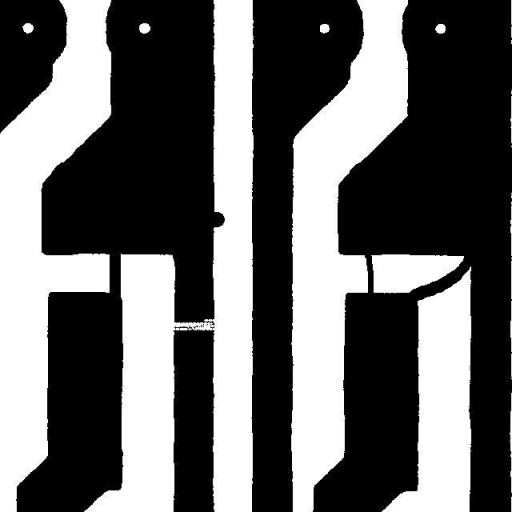open: (164, 311, 226, 338)
short: (400, 243, 482, 309), (102, 242, 128, 306), (357, 246, 381, 302)
spur: (199, 204, 232, 234)
